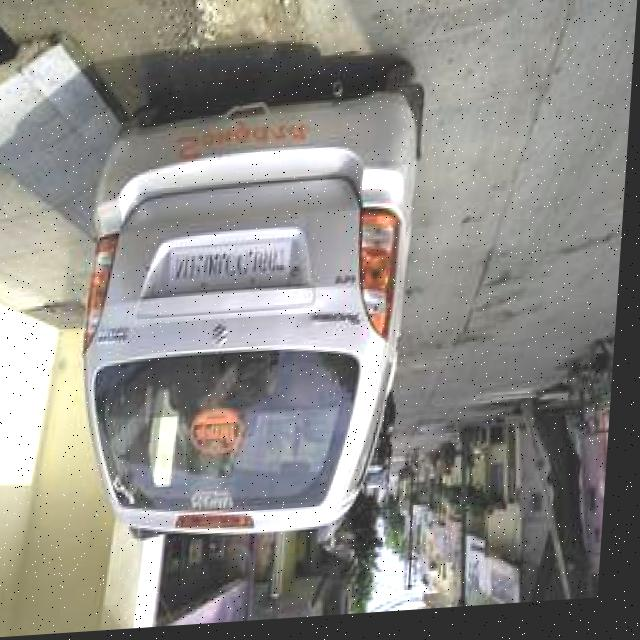plate: (171, 241, 299, 296)
